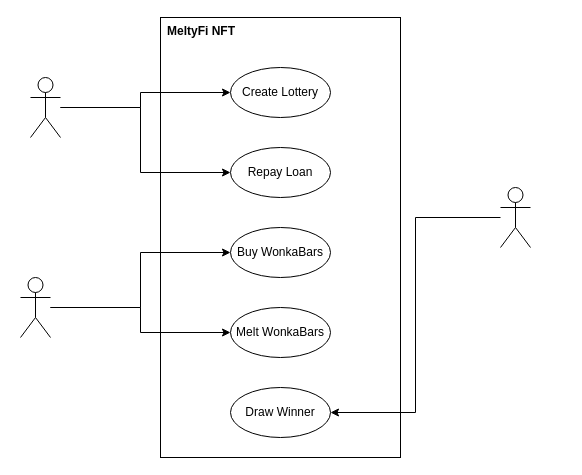
Some shapes in this 582 by 475 pixel diagram are drawn without their labels. The box of each missing label's shape, as (x1, y1, x2, y2) in pixels:
Borrower: (30, 76, 60, 138)
Lender: (20, 276, 50, 338)
Oracle automation: (500, 186, 530, 248)
